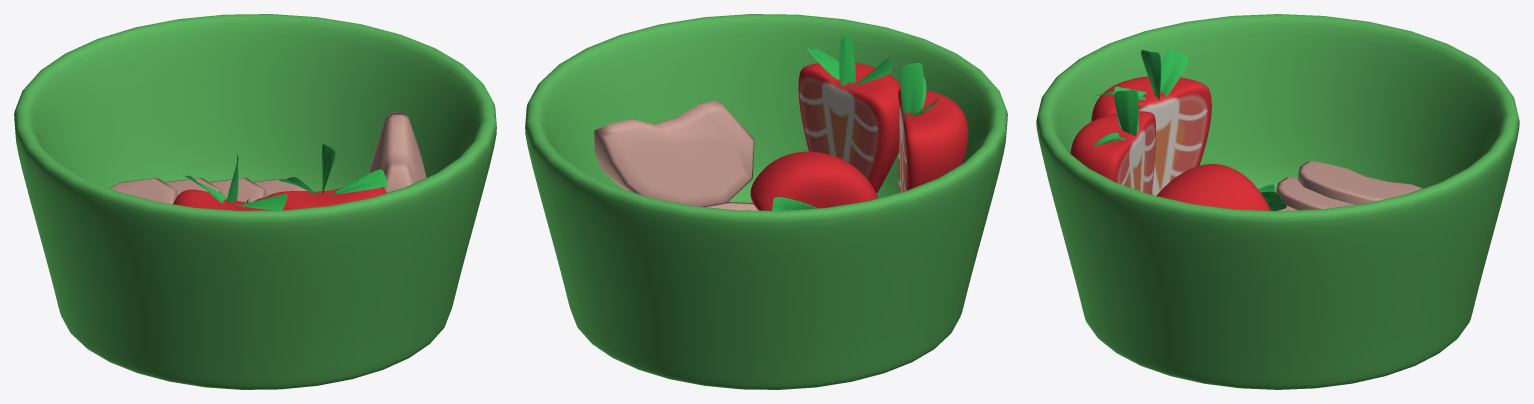
Rendered from BolManzanaFresa.fbx.
3 views of the same model, side by side, from view 1: azimuth 30°, elevation 25°; view 2: azimuth 150°, elevation 25°; view 3: azimuth 270°, elevation 25° (orthographic).
Parts seen in each view (by area): view 1: Fresa cortada.002; view 2: Fresa cortada.002; view 3: Fresa cortada.002.
Part boxes in pixels (x1,y1,x2,y2): Fresa cortada.002: (14, 14, 496, 389); Fresa cortada.002: (525, 14, 1007, 389); Fresa cortada.002: (1036, 14, 1519, 389).
Bounding box in the file's own units: 4.12 × 2.06 × 4.12.
